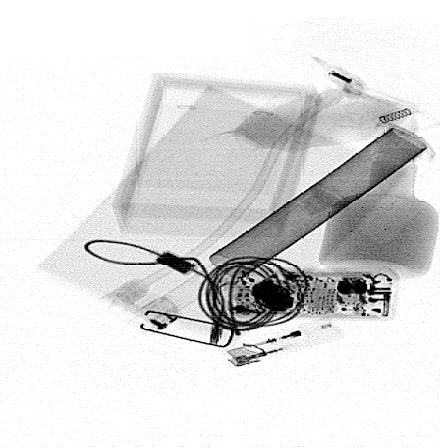Lighter: (226, 319, 344, 367)
